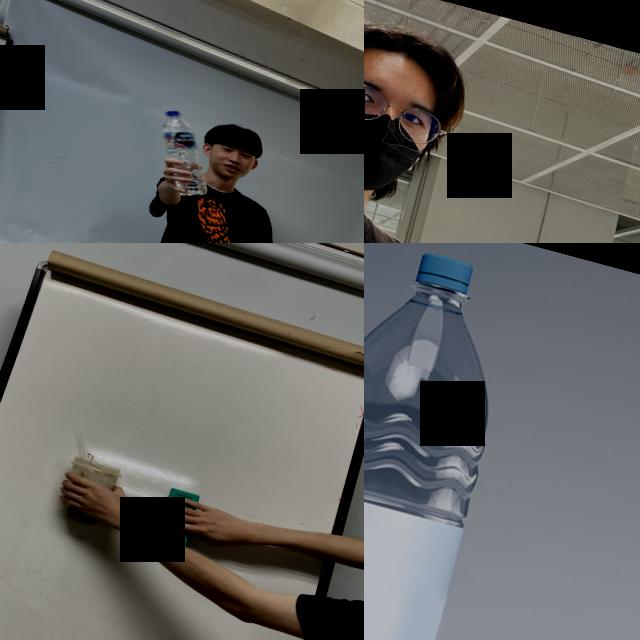bottle: (364, 243, 533, 640), (145, 109, 226, 202)
cup: (56, 454, 124, 530)
